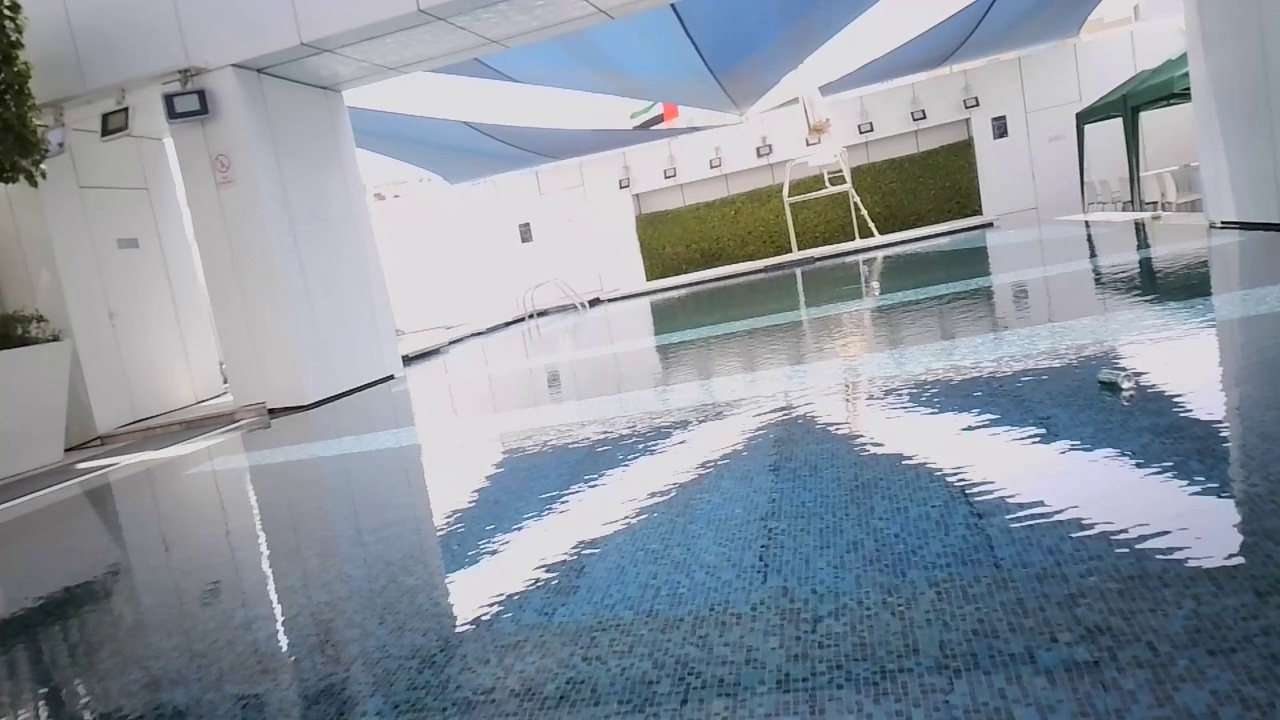debris: (1094, 360, 1138, 395), (1146, 208, 1166, 225), (865, 279, 882, 292), (858, 263, 868, 275)
